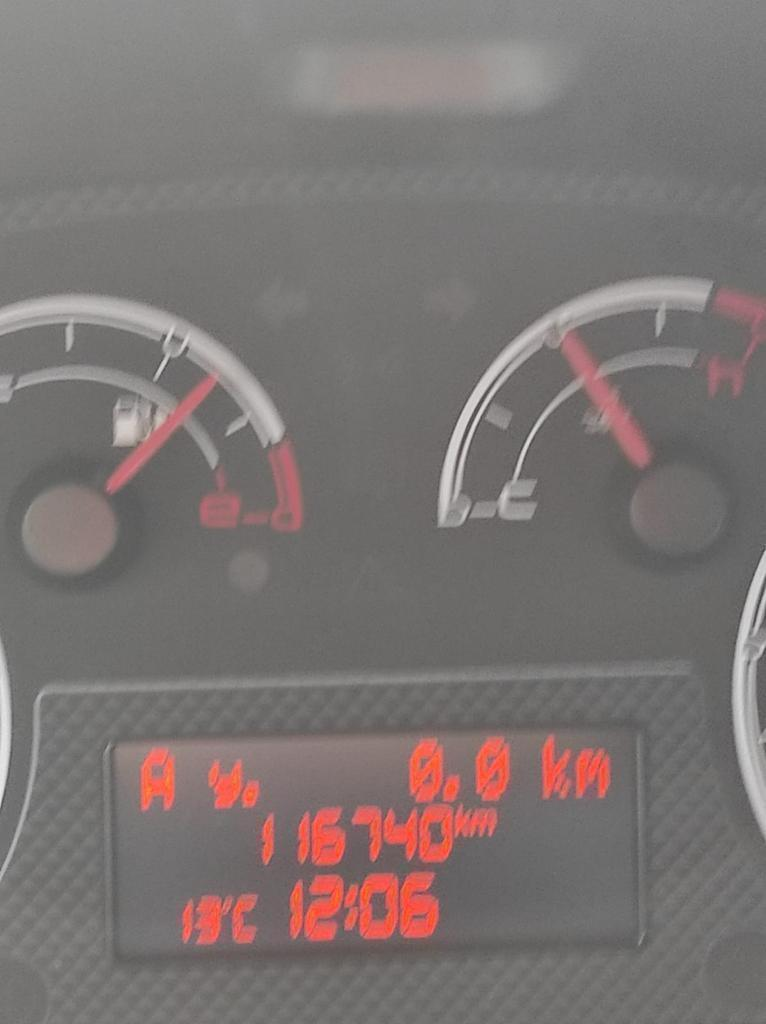,: (242, 778, 261, 812), (444, 773, 463, 803)
0: (360, 869, 398, 942), (472, 736, 512, 803), (404, 735, 443, 803), (419, 802, 453, 864)
1: (285, 875, 303, 943), (258, 809, 276, 867), (292, 807, 309, 866), (178, 894, 193, 946)
2: (304, 872, 341, 943)
3: (195, 892, 221, 947)
4: (383, 804, 418, 863)
6: (399, 869, 439, 940), (312, 804, 346, 867)
7: (349, 803, 382, 864)
X: (136, 744, 177, 814), (537, 731, 571, 802), (202, 755, 243, 813), (572, 744, 614, 800), (232, 891, 261, 946), (471, 807, 499, 838), (343, 880, 358, 934), (453, 800, 470, 840)
odometer: (99, 712, 656, 974)
